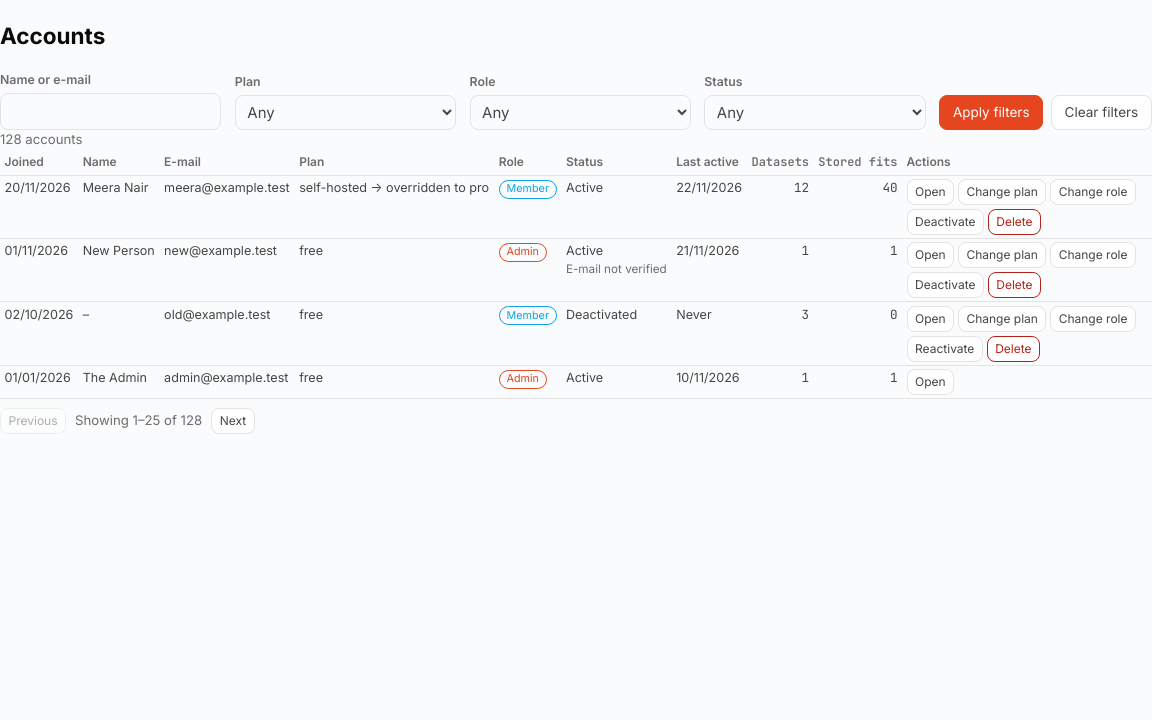
UsersPage — changing an account › Change plan sends the chosen override, confirms it, and shows the plan the server resolved
Check: the table named "Accounts" is shown, box [0, 150, 1151, 399]
Click the button with aria-label "Change plan meera@example.test".
click(1002, 192)  # box [958, 179, 1046, 205]
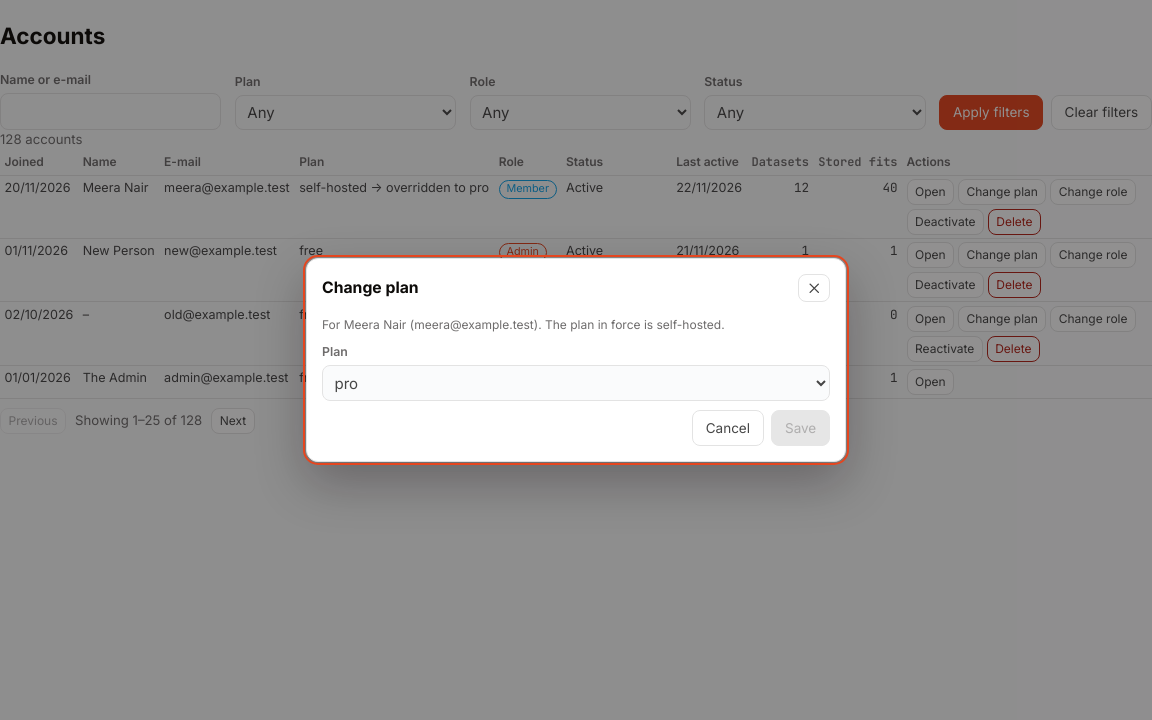
Check: the dropdown labelled "Plan" shows "pro"
Check: the button "Save" is disabled, box [771, 410, 830, 446]
Select "free" in the dropdown labelled "Plan" at (576, 383), box [322, 365, 830, 401]
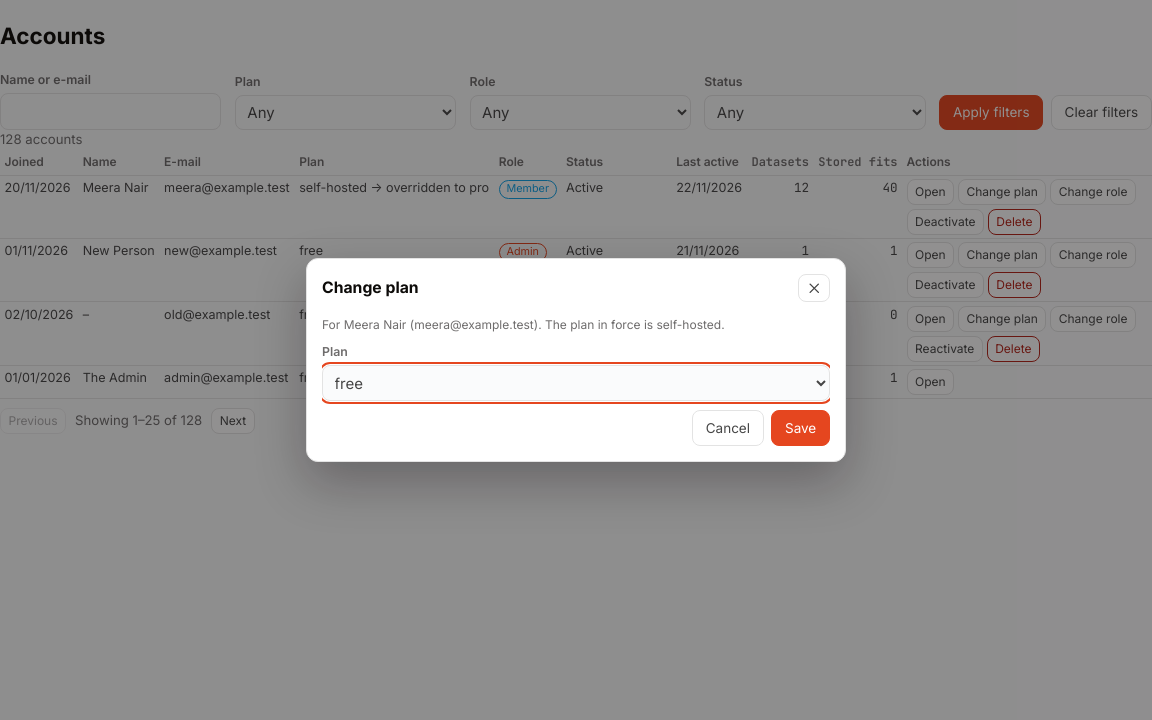
Click the button "Save".
click(801, 428)  # box [771, 410, 830, 446]
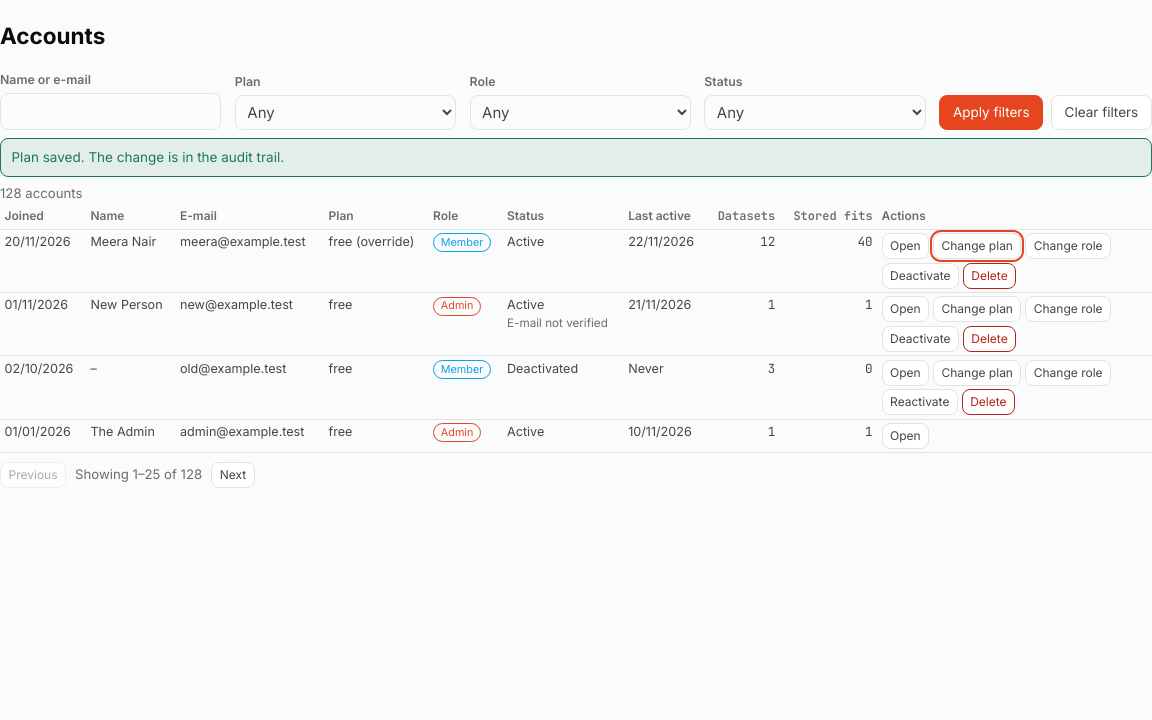
Check: the text "Plan saved. The change is in the audit trail." is shown, box [0, 138, 1151, 177]
Check: the dialog is gone
Check: the cell "free (override)" is shown, box [324, 230, 428, 292]
